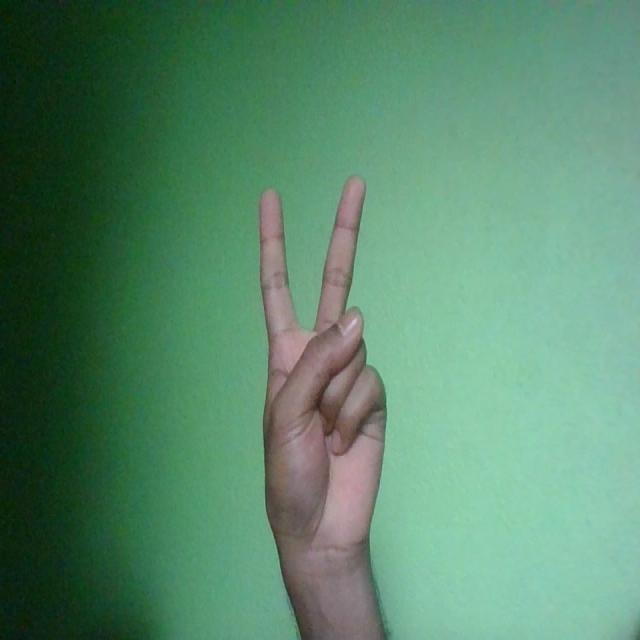Fist: (260, 173, 387, 560)
